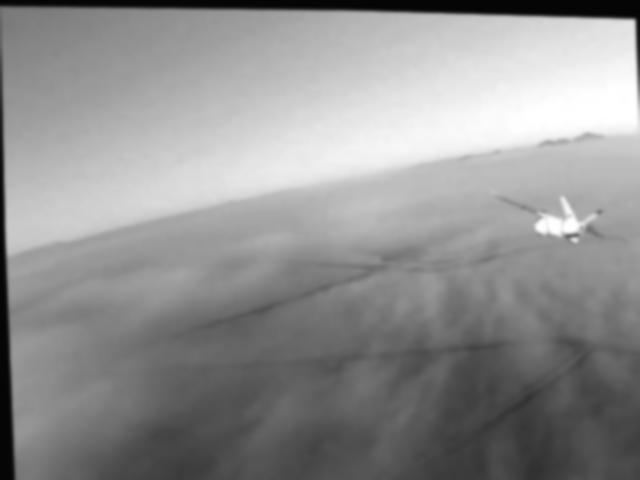hedef: (478, 179, 636, 261)
